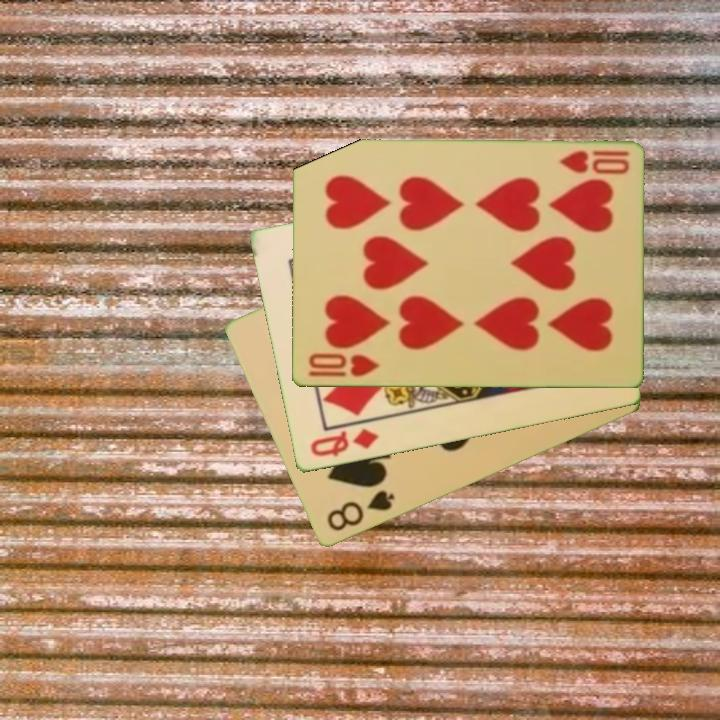10h: (304, 350, 382, 381), (555, 148, 632, 178)
8s: (323, 487, 398, 535)
Qd: (306, 425, 381, 460)
